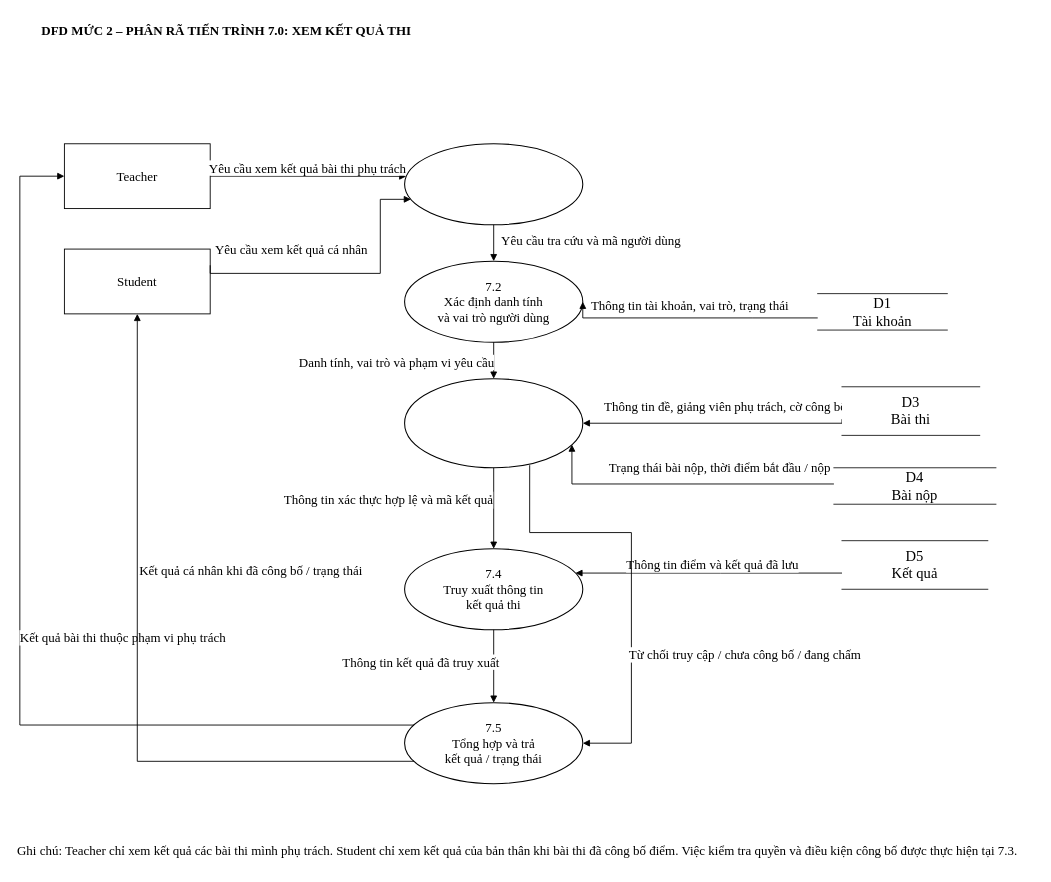
The diagram is 1051 pixels wide and 882 high, and some of its shapes have lost their labels. Here are the shapes that lost their labels. From the top down, the centre of each, then its label:
At point 493,184: "7.1 Tiếp nhận yêu cầu xem kết quả".
At point 493,423: "7.3 Kiểm tra quyền truy cập và điều kiện công bố".
